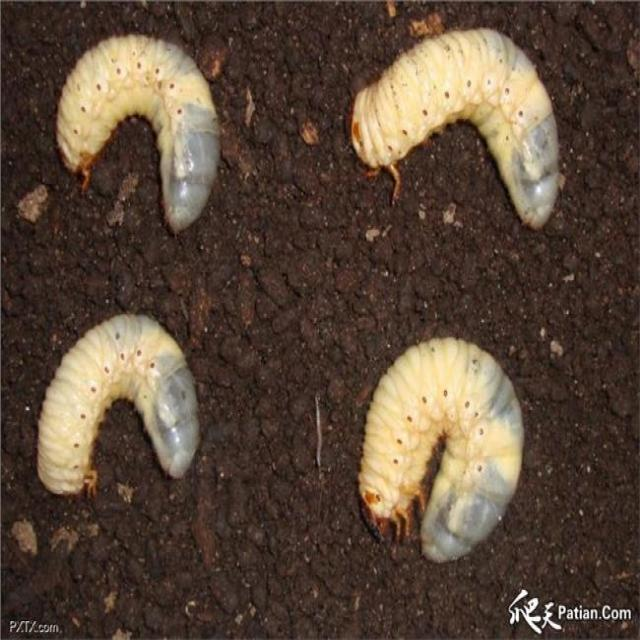Grub-Adult-: (330, 311, 544, 591), (349, 9, 570, 239), (17, 287, 215, 530), (43, 17, 229, 254)
